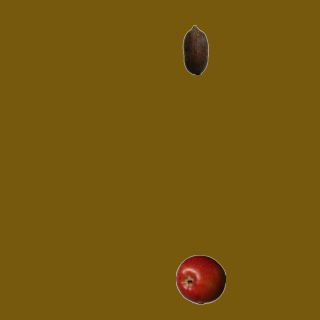Apple Braeburn: (175, 254, 225, 304)
Nut Pecan: (170, 24, 220, 74)
